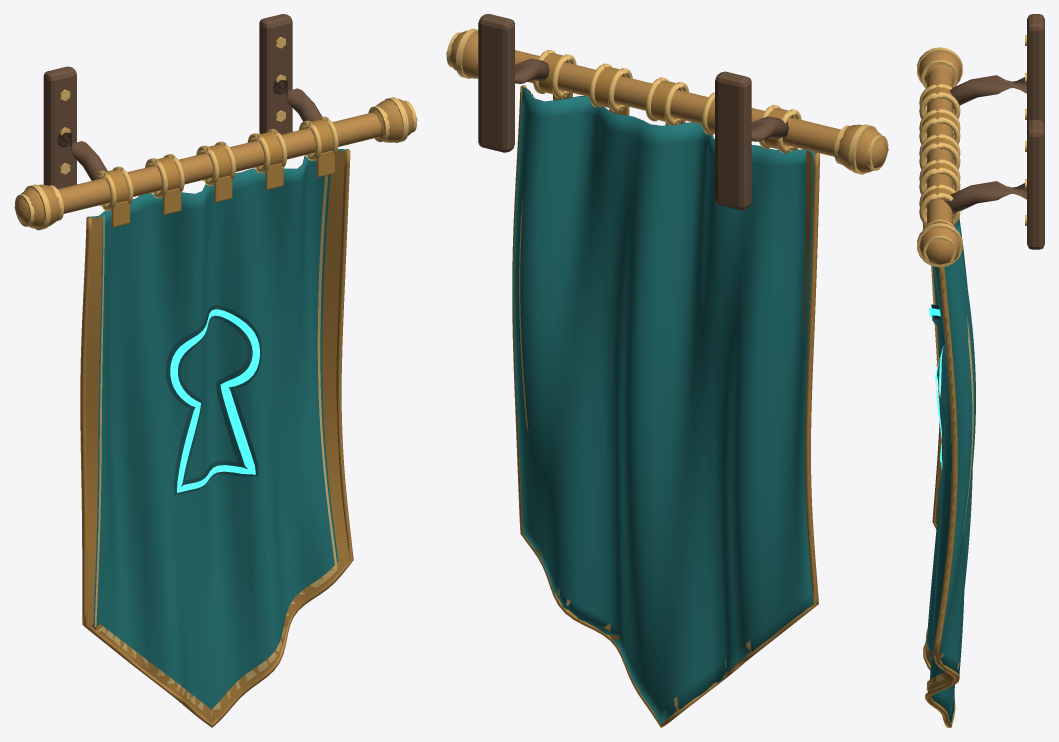
File: wsc-prop-061-keyhole-banner.glb
3 views of the same model, side by side, from view 1: azimuth 30°, elevation 25°; view 2: azimuth 150°, elevation 25°; view 3: azimuth 270°, elevation 25° (orthographic). The views are drawn at different scales.
Parts seen in each view (by area): view 1: Vault teal heavy woven textile, Old gold woven tape, Dark forged bronze, Cast brass, Polished brass edges, Petrol embroidery ground, Luminous cyan embroidery, Bright embroidery thread; view 2: Vault teal heavy woven textile, Dark forged bronze, Old gold woven tape, Cast brass, Polished brass edges; view 3: Vault teal heavy woven textile, Dark forged bronze, Old gold woven tape, Polished brass edges, Cast brass, Petrol embroidery ground, Bright embroidery thread, Luminous cyan embroidery.
Boxes of the visible parts, x1,y1,x2,y2 form: Vault teal heavy woven textile: [90, 149, 347, 709]; Old gold woven tape: [80, 119, 353, 727]; Dark forged bronze: [43, 14, 322, 188]; Cast brass: [14, 99, 417, 228]; Polished brass edges: [15, 37, 416, 230]; Petrol embroidery ground: [165, 305, 261, 495]; Luminous cyan embroidery: [170, 309, 259, 492]; Bright embroidery thread: [94, 175, 337, 717]; Vault teal heavy woven textile: [513, 86, 815, 724]; Dark forged bronze: [478, 14, 788, 210]; Old gold woven tape: [512, 53, 819, 727]; Cast brass: [446, 30, 888, 172]; Polished brass edges: [446, 28, 888, 174]; Vault teal heavy woven textile: [926, 156, 975, 723]; Dark forged bronze: [943, 14, 1044, 249]; Old gold woven tape: [922, 86, 970, 727]; Polished brass edges: [917, 35, 1026, 267]; Cast brass: [918, 51, 961, 264]; Petrol embroidery ground: [931, 304, 946, 501]; Bright embroidery thread: [925, 266, 973, 691]; Luminous cyan embroidery: [929, 308, 943, 470].
Bounding box in the file's own units: 1.28 × 2 × 0.3535.
